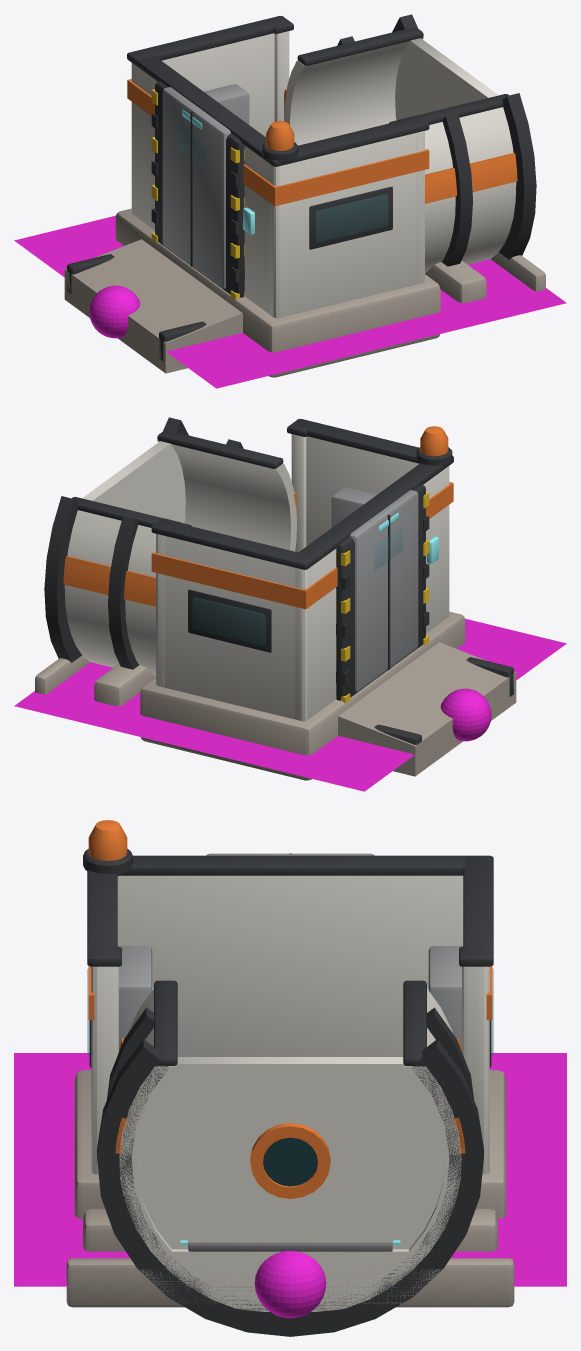
Rendered from airlock_cut.gltf.
The picture shows the model from 3 angles, top to bottom: view 1: azimuth 30°, elevation 25°; view 2: azimuth 150°, elevation 25°; view 3: azimuth 270°, elevation 25°; orthographic projection. The views are drawn at different scales.
Parts seen in each view (by area): view 1: Airlock, %P%Footprint, %V%AnchorIn-, %P%AnchorOut; view 2: Airlock, %P%Footprint, %V%AnchorIn-, %P%AnchorOut; view 3: Airlock, %V%AnchorIn-, %P%Footprint, %P%AnchorIn.
Part boxes in pixels (x1=…): Airlock: x1=64, y1=14, x2=545, y2=377; %P%Footprint: x1=14, y1=215, x2=566, y2=388; %V%AnchorIn-: x1=395, y1=38, x2=498, y2=120; %P%AnchorOut: x1=89, y1=285, x2=140, y2=338; Airlock: x1=35, y1=417, x2=516, y2=780; %P%Footprint: x1=14, y1=618, x2=566, y2=791; %V%AnchorIn-: x1=82, y1=441, x2=185, y2=523; %P%AnchorOut: x1=440, y1=688, x2=491, y2=741; Airlock: x1=66, y1=820, x2=514, y2=1336; %V%AnchorIn-: x1=135, y1=1057, x2=445, y2=1249; %P%Footprint: x1=14, y1=1053, x2=566, y2=1286; %P%AnchorIn: x1=254, y1=1251, x2=326, y2=1318.
Bounding box in the file's own units: 2.25 × 1.38 × 2.
